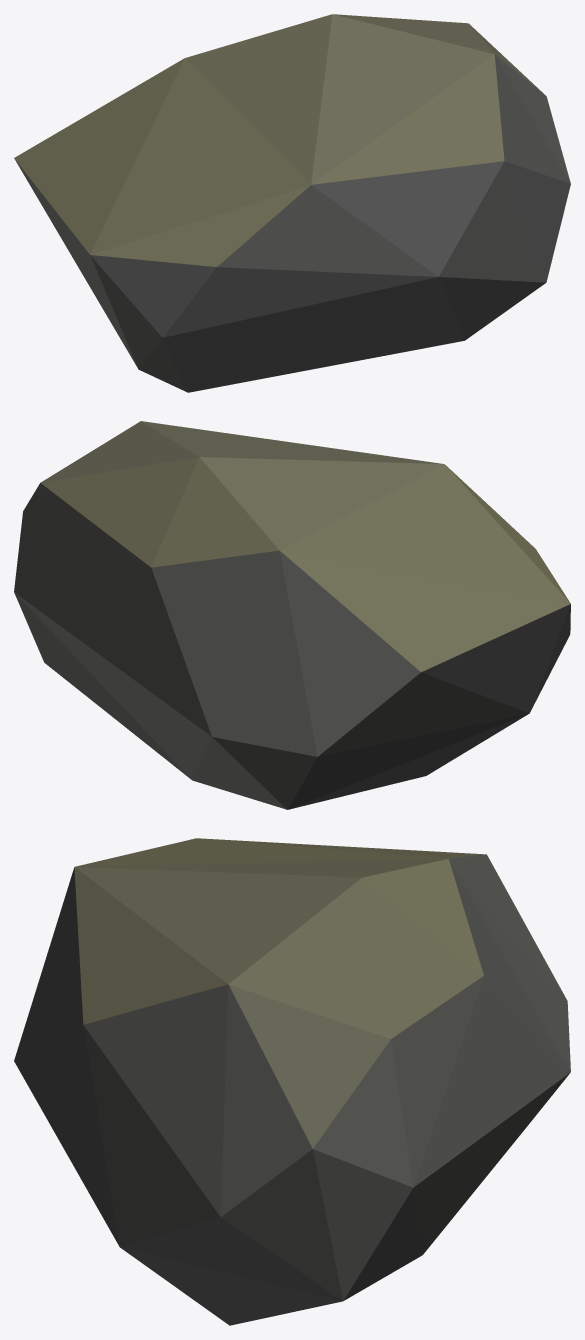
File: rock-small.glb
3 views of the same model, one above another, from view 1: azimuth 30°, elevation 25°; view 2: azimuth 150°, elevation 25°; view 3: azimuth 270°, elevation 25° (orthographic). The views are drawn at different scales.
Visible parts, largest first — view 1: rock-small; view 2: rock-small; view 3: rock-small.
Boxes of the visible parts, box(x1,y1,x2,y2) form: rock-small: box(14, 14, 570, 392); rock-small: box(14, 421, 570, 809); rock-small: box(14, 838, 570, 1325).
Bounding box in the file's own units: 0.5999 × 0.3528 × 0.4484.
